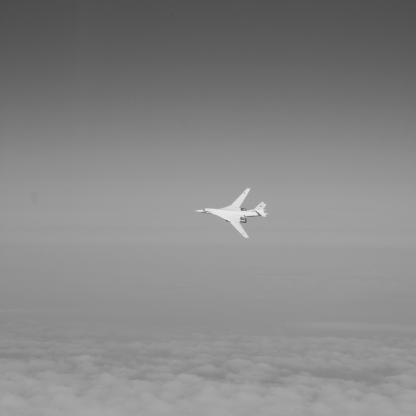Tu160: (196, 189, 269, 239)
